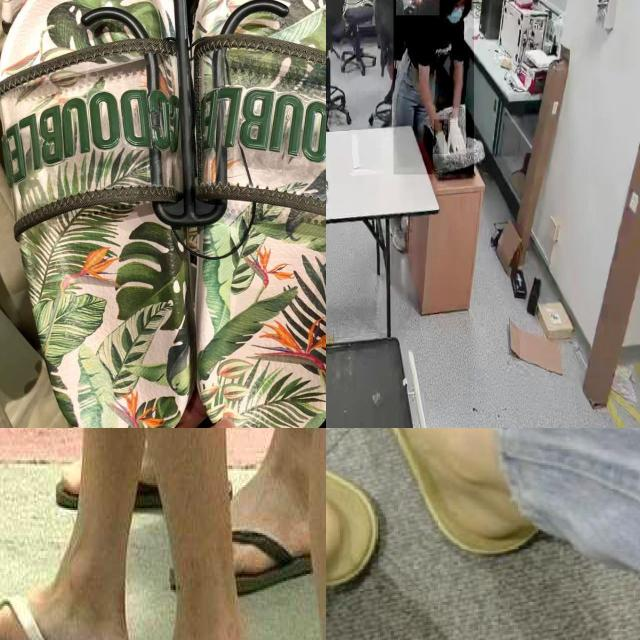Sandals: (0, 0, 326, 428), (326, 428, 566, 589)
face_mask: (445, 0, 464, 28)
hand_glove: (444, 108, 466, 161), (434, 119, 448, 155)
hand_noglove: (406, 0, 421, 5)
person: (393, 0, 474, 175)
